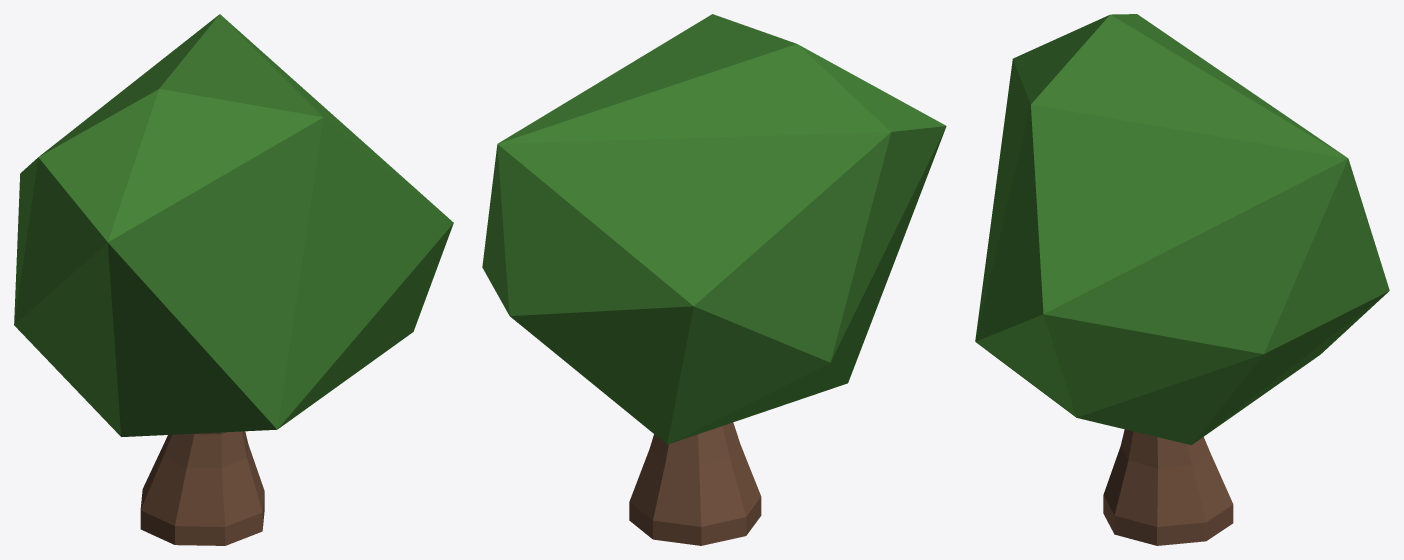
Rendered from SM_Bush.fbx.
The picture shows the model from 3 angles, left to right: view 1: azimuth 30°, elevation 25°; view 2: azimuth 150°, elevation 25°; view 3: azimuth 270°, elevation 25°; orthographic projection.
Visible parts, largest first — view 1: Small_Bush; view 2: Small_Bush; view 3: Small_Bush.
Part boxes in pixels (x1,y1,x2,y2): Small_Bush: [14, 14, 453, 545]; Small_Bush: [482, 14, 946, 545]; Small_Bush: [975, 14, 1389, 545].
Bounding box in the file's own units: 99.96 × 122 × 97.63.
